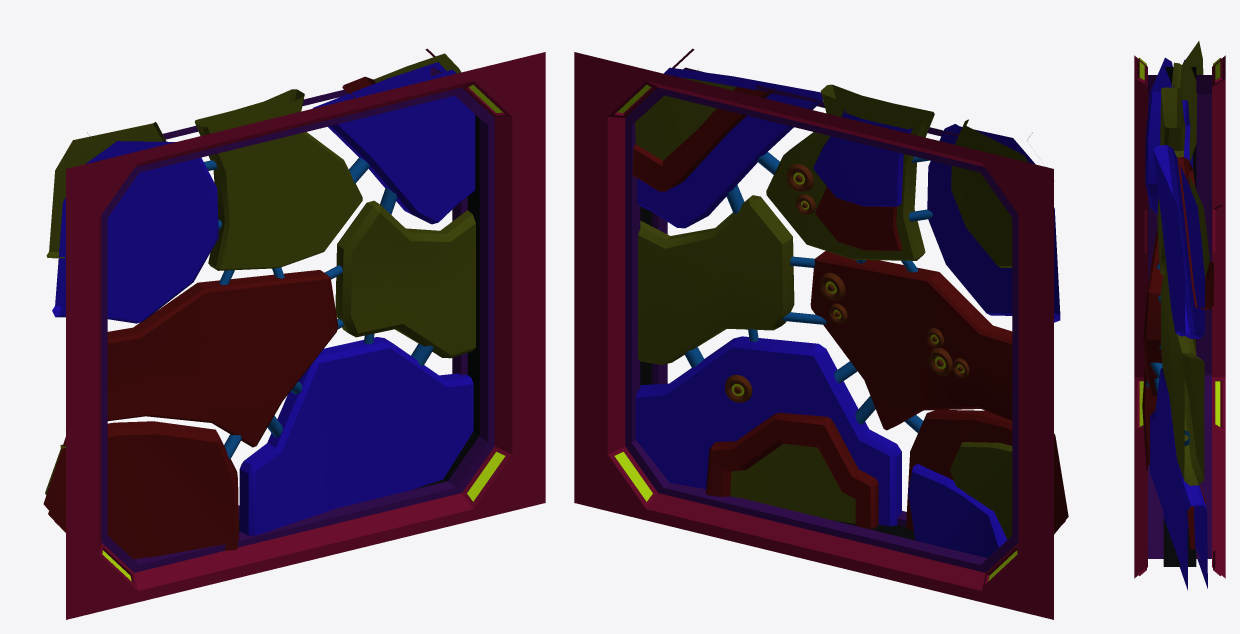
Rendered from OBJ_Mur_Destructible.fbx.
3 renders of one model, left to right at view 1: azimuth 30°, elevation 25°; view 2: azimuth 150°, elevation 25°; view 3: azimuth 270°, elevation 25°, orthographic. The views are drawn at different scales.
Parts seen in each view (by area): view 1: OBJ_Mur_Destructible; view 2: OBJ_Mur_Destructible; view 3: OBJ_Mur_Destructible.
Part boxes in pixels (x1,y1,x2,y2): OBJ_Mur_Destructible: [43, 48, 545, 619]; OBJ_Mur_Destructible: [574, 48, 1068, 619]; OBJ_Mur_Destructible: [1134, 41, 1225, 590].
Size of the model in its own units: 10.69 by 9.62 by 2.
